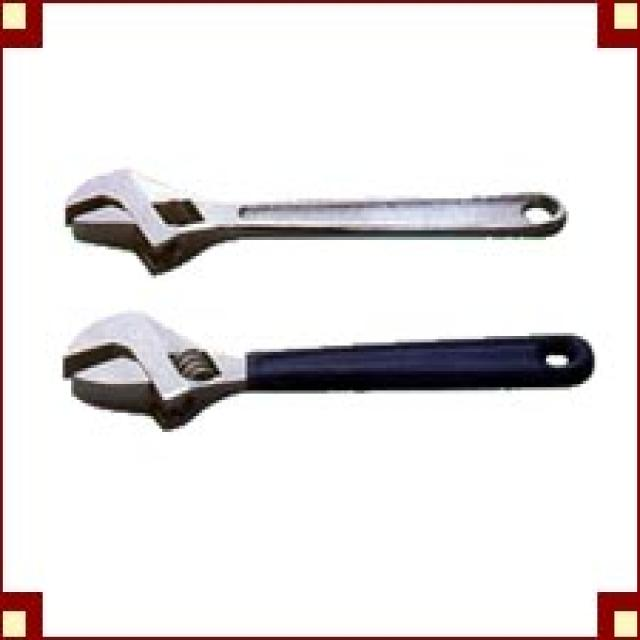wrench: (43, 299, 640, 436), (51, 140, 592, 276)
